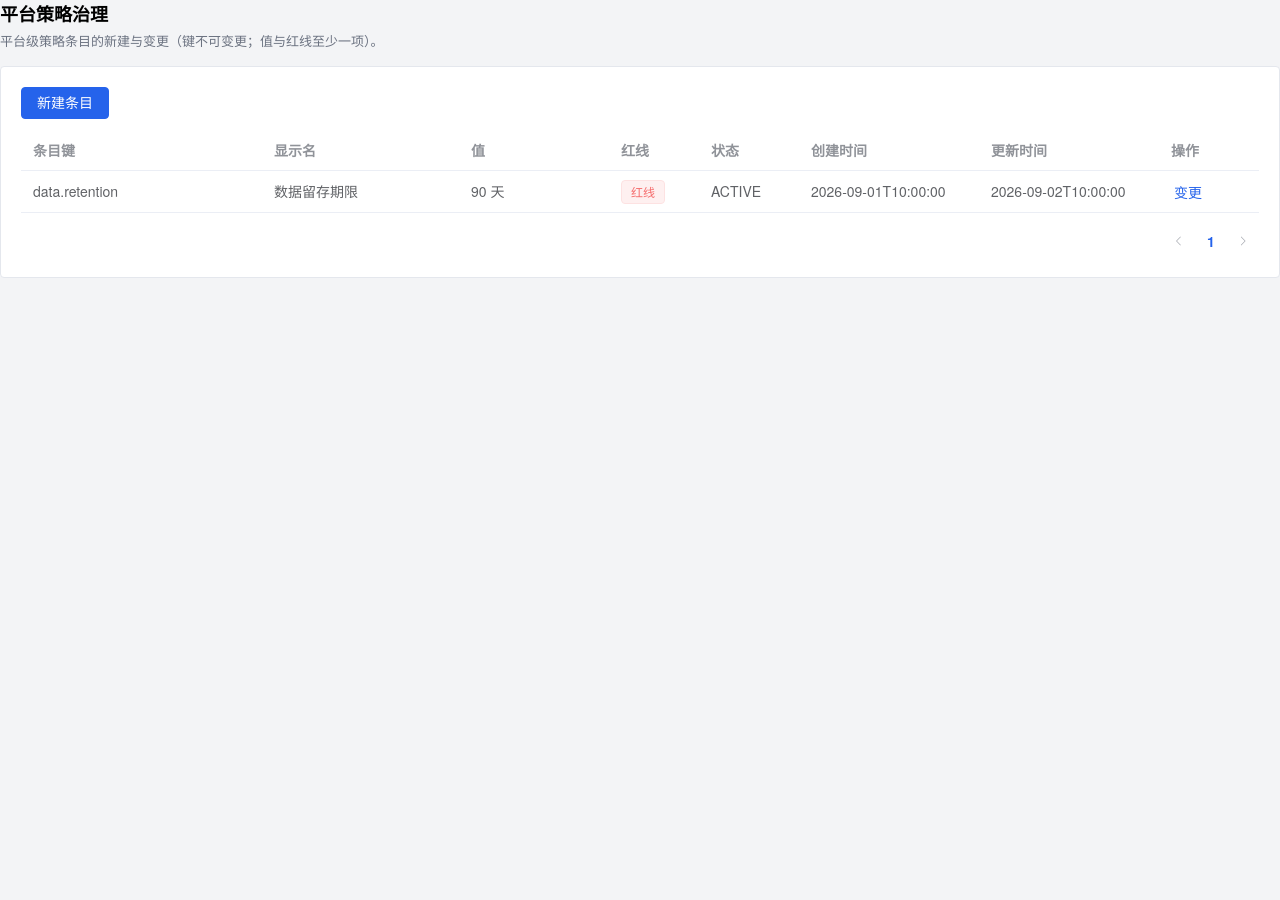
Test: 新建条目（T26） › 键/值不合目录要求被拒（1006C0012）：文案原样展示
Click the button "新建条目" at [65, 103], box [21, 87, 109, 119]
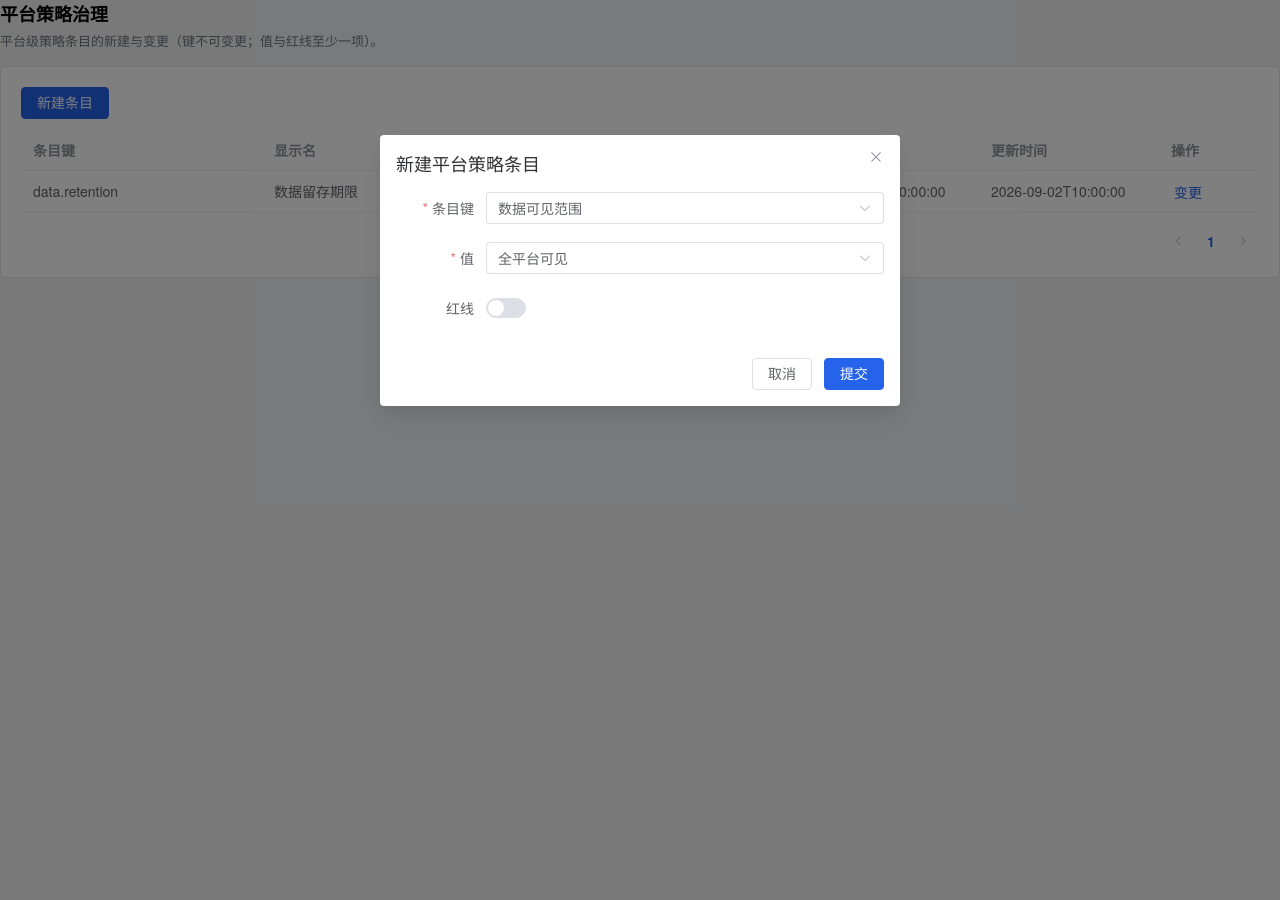
Click the button "提交" at [854, 374], box [824, 358, 884, 390]
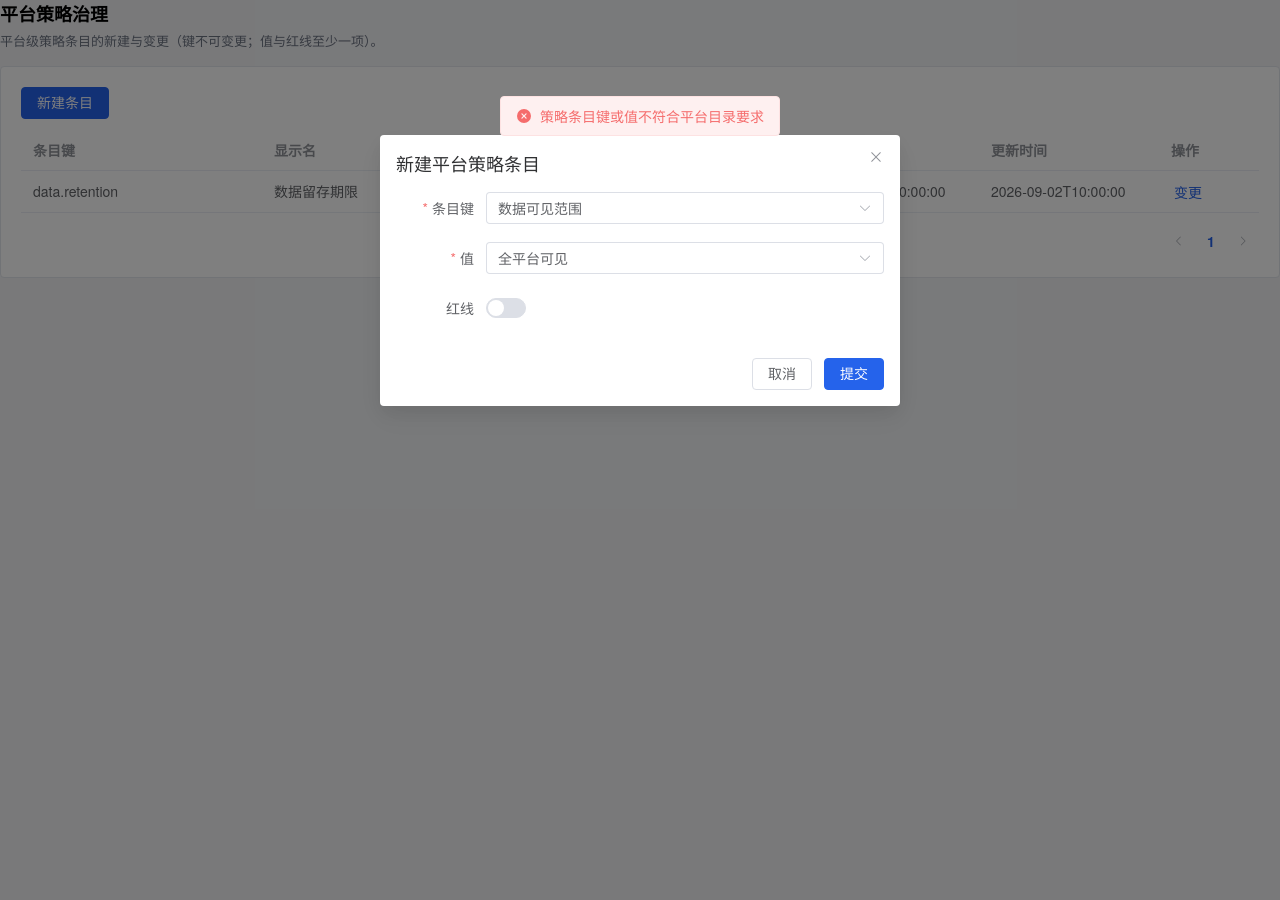
Result: the text "策略条目键或值不符合平台目录要求" is shown at [540, 109, 764, 123]
